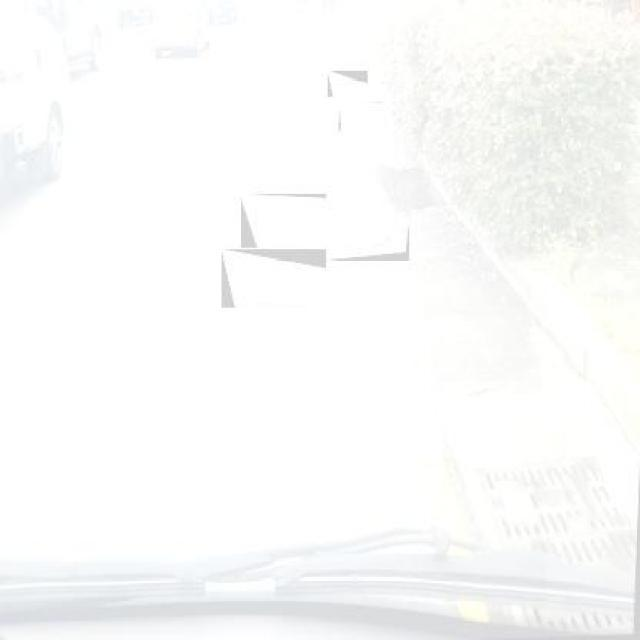Manhole: (475, 455, 640, 640), (222, 249, 327, 308), (240, 194, 326, 248), (326, 226, 409, 260), (338, 102, 384, 130), (328, 71, 368, 97)
